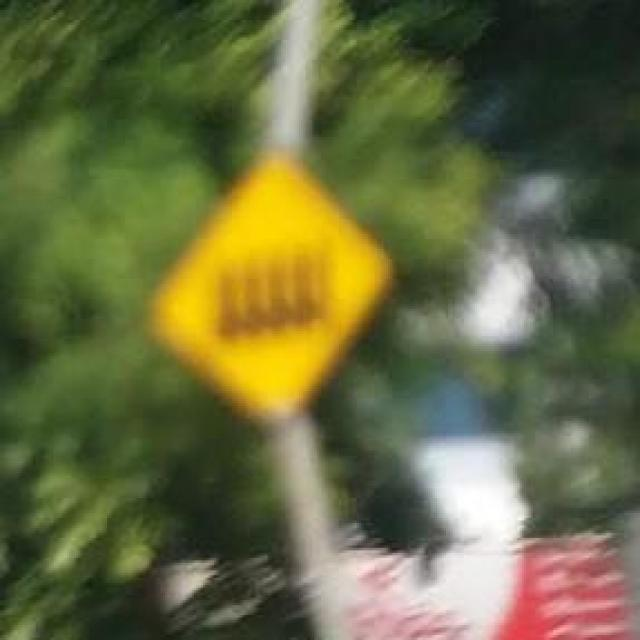traffic sign: (160, 164, 376, 410)
